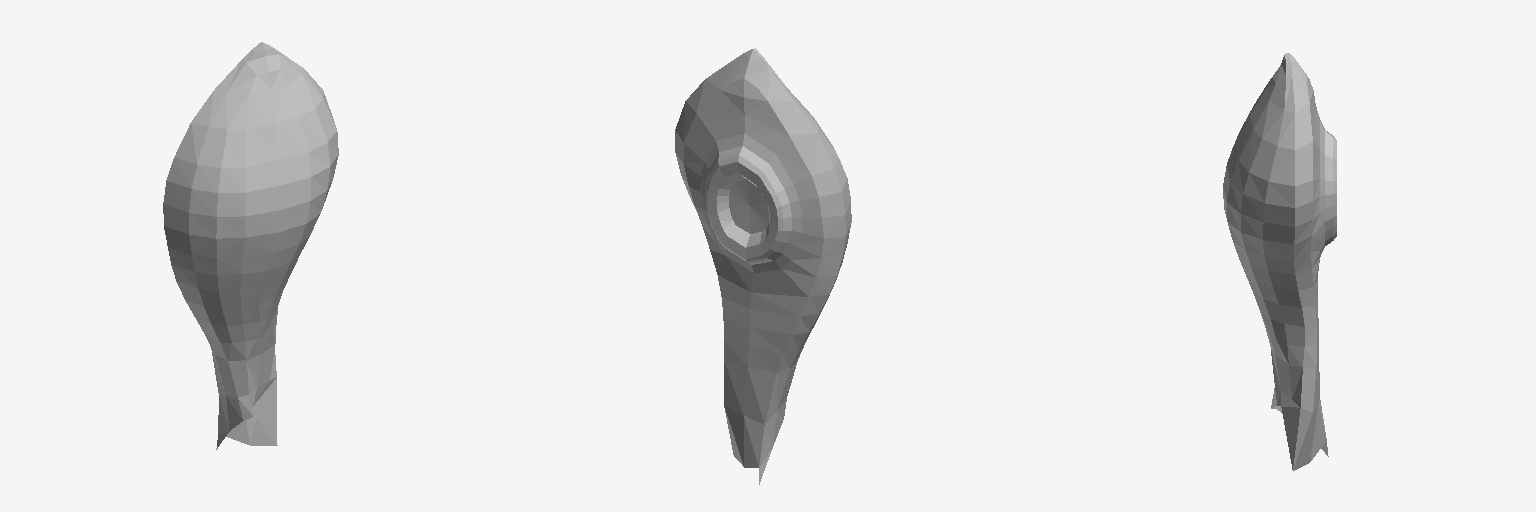
File: DerSquid.obj
The picture shows the model from 3 angles: view 1: azimuth 30°, elevation 25°; view 2: azimuth 150°, elevation 25°; view 3: azimuth 270°, elevation 25°; orthographic projection.
Visible parts, largest first — view 1: Squid__M_Body.001, Squid__M_Body.002; view 2: Squid__M_Body.002, Squid__M_Body.001; view 3: Squid__M_Body.001, Squid__M_Body.002.
Part boxes in pixels (left/top/right/bottom): Squid__M_Body.001: left=163, top=42, right=338, bottom=445; Squid__M_Body.002: left=211, top=349, right=276, bottom=449; Squid__M_Body.002: left=675, top=49, right=845, bottom=484; Squid__M_Body.001: left=754, top=48, right=851, bottom=445; Squid__M_Body.001: left=1223, top=53, right=1304, bottom=469; Squid__M_Body.002: left=1290, top=54, right=1336, bottom=470.
Size of the model in its own units: 0.3727 by 0.8712 by 0.2163.